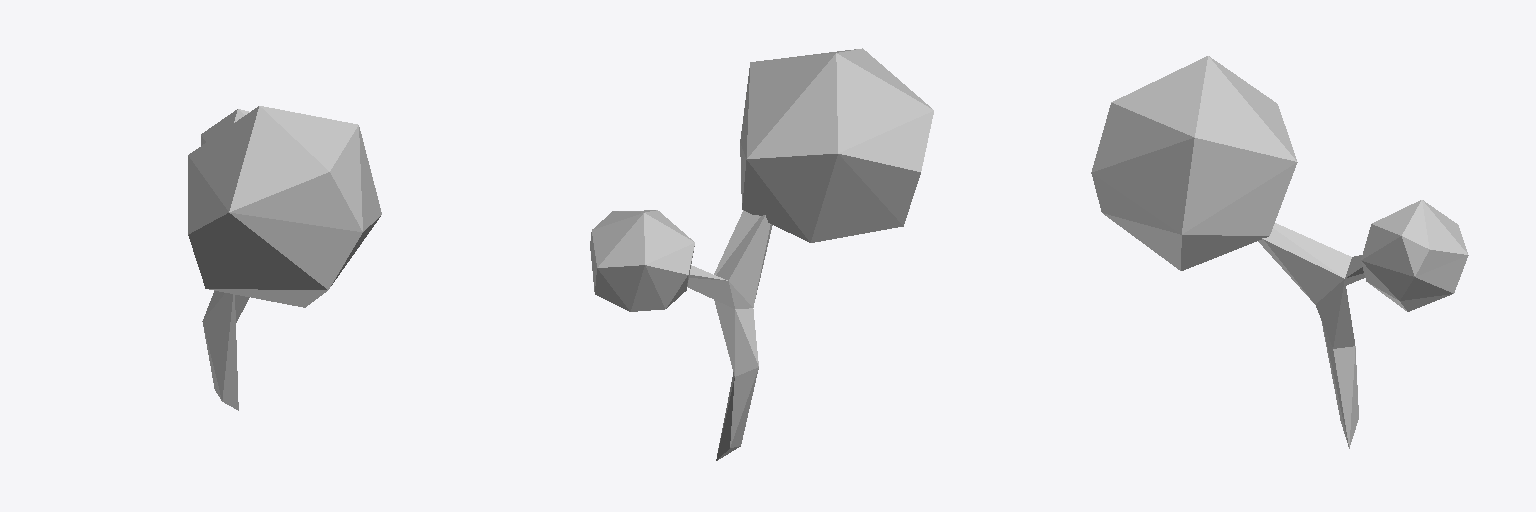
Rendered from tree.obj.
3 views of the same model, side by side, from view 1: azimuth 30°, elevation 25°; view 2: azimuth 150°, elevation 25°; view 3: azimuth 270°, elevation 25° (orthographic).
Parts seen in each view (by area): view 1: Cube; view 2: Cube; view 3: Cube.
Part boxes in pixels (x1,y1,x2,y2): Cube: (188,106,381,410); Cube: (590,48,933,460); Cube: (1091,56,1468,448).
Bounding box in the file's own units: 4.55 × 7.25 × 6.72.